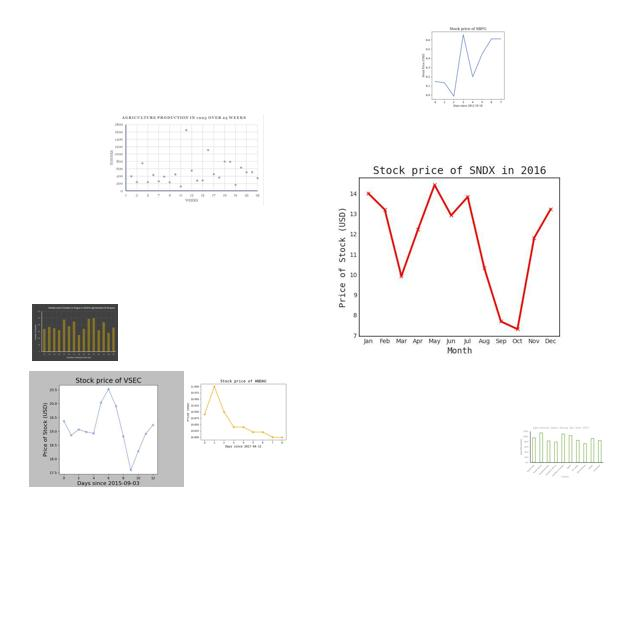Graph: (319, 153, 593, 359), (29, 371, 184, 487), (107, 114, 264, 206), (408, 21, 525, 109), (187, 370, 297, 453), (32, 304, 118, 361), (518, 425, 605, 478)
